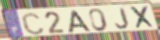0: (89, 8, 109, 32)
2: (45, 10, 68, 35)
A: (68, 9, 92, 33)
C: (20, 11, 46, 36)
J: (114, 7, 130, 30)
X: (128, 6, 157, 30)
